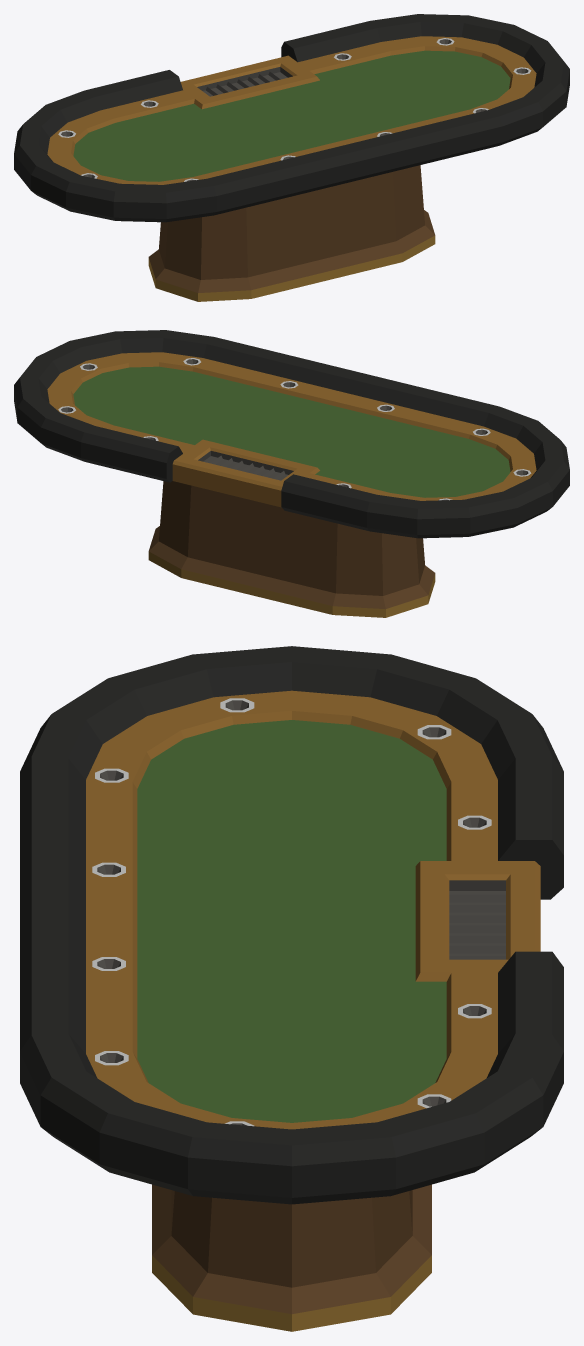
Rendered from tournament-poker-table-a75b66.glb.
3 renders of one model, top to bottom at view 1: azimuth 30°, elevation 25°; view 2: azimuth 150°, elevation 25°; view 3: azimuth 270°, elevation 25°, orthographic. The views are drawn at different scales.
Visible parts, largest first — view 1: tournament-poker-table-body; view 2: tournament-poker-table-body; view 3: tournament-poker-table-body.
Part boxes in pixels (x1=…): tournament-poker-table-body: x1=14, y1=14, x2=569, y2=301; tournament-poker-table-body: x1=14, y1=330, x2=569, y2=617; tournament-poker-table-body: x1=20, y1=646, x2=563, y2=1331.
Bounding box in the file's own units: 3.1 × 0.86 × 1.4.
